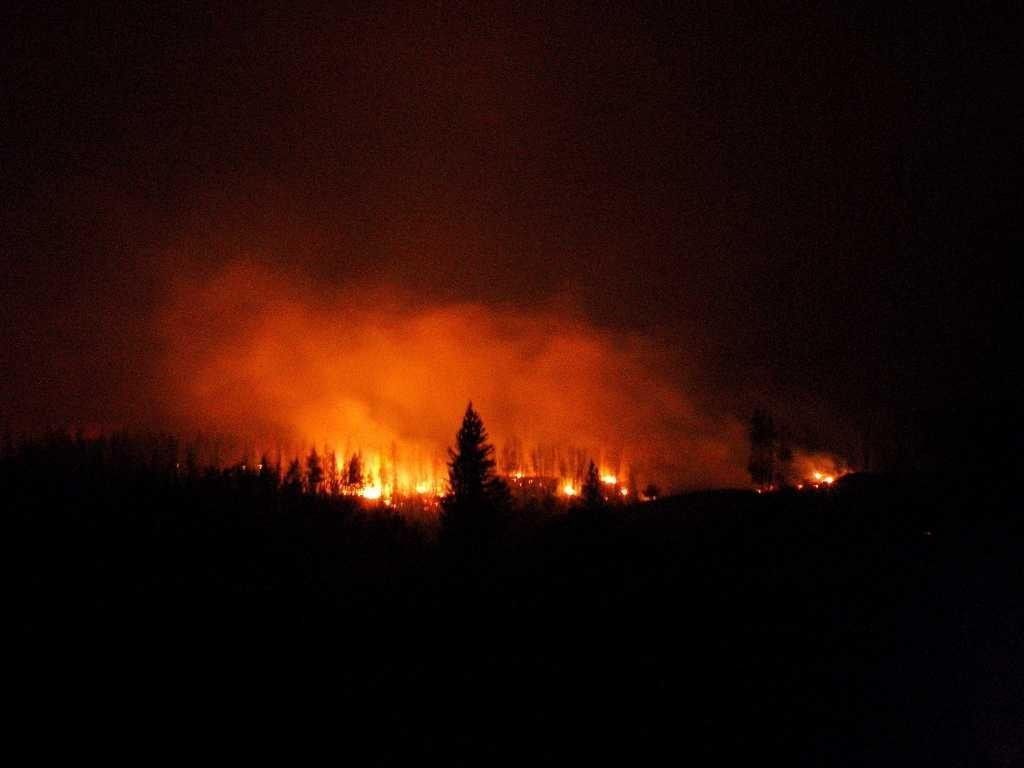fire: (352, 476, 396, 496), (602, 464, 632, 486), (414, 470, 432, 492)
smoke: (272, 294, 600, 378)
